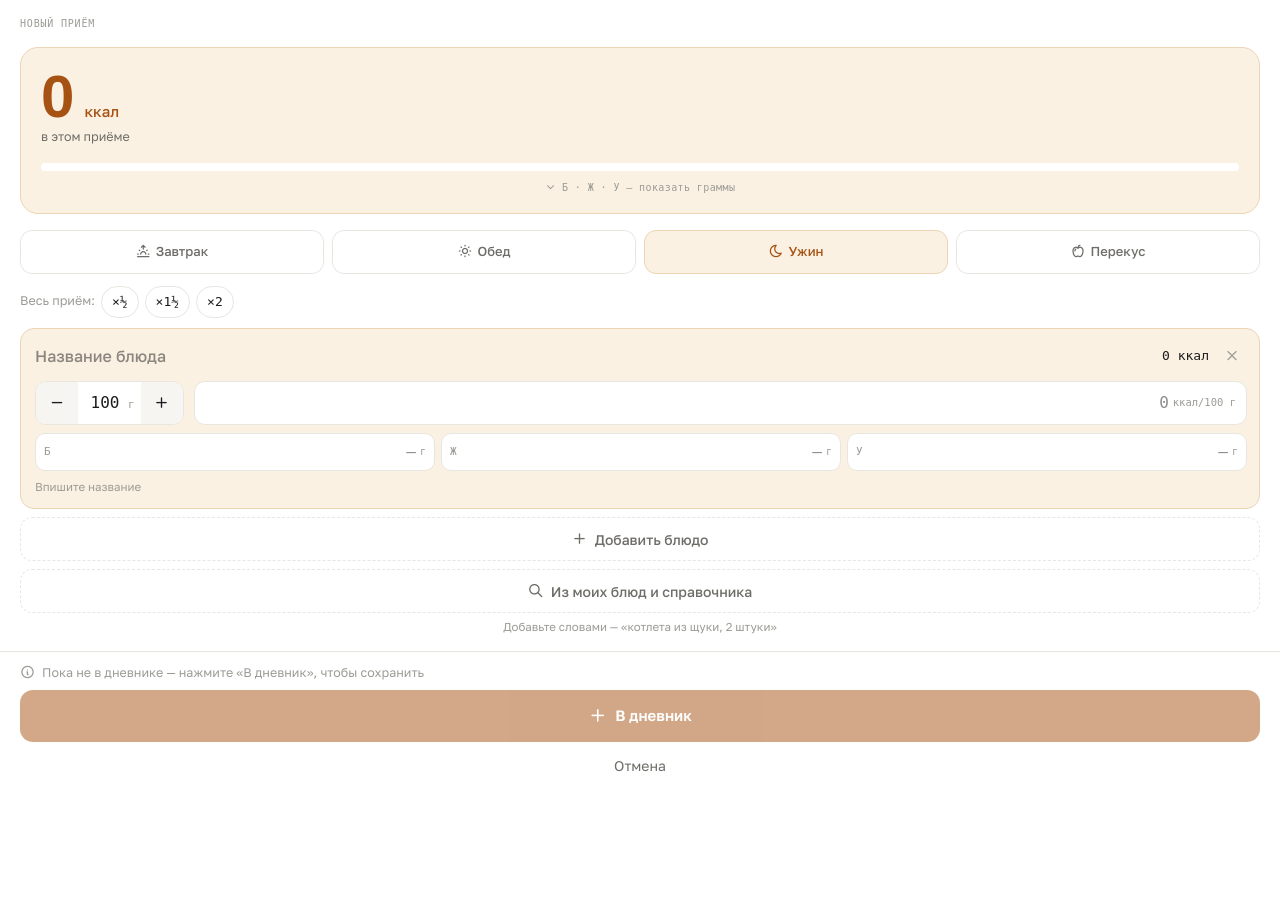
Test: Б. БЖУ из справочника видны до сохранения › творог 5 %, 200 г: 242 ккал и Б 34 / Ж 10 / У 4 на экране
The image size is (1280, 900).
Type "твор" into the field labelled "Название блюда" at (594, 356), box x1=35 y1=344 x2=1154 y2=368
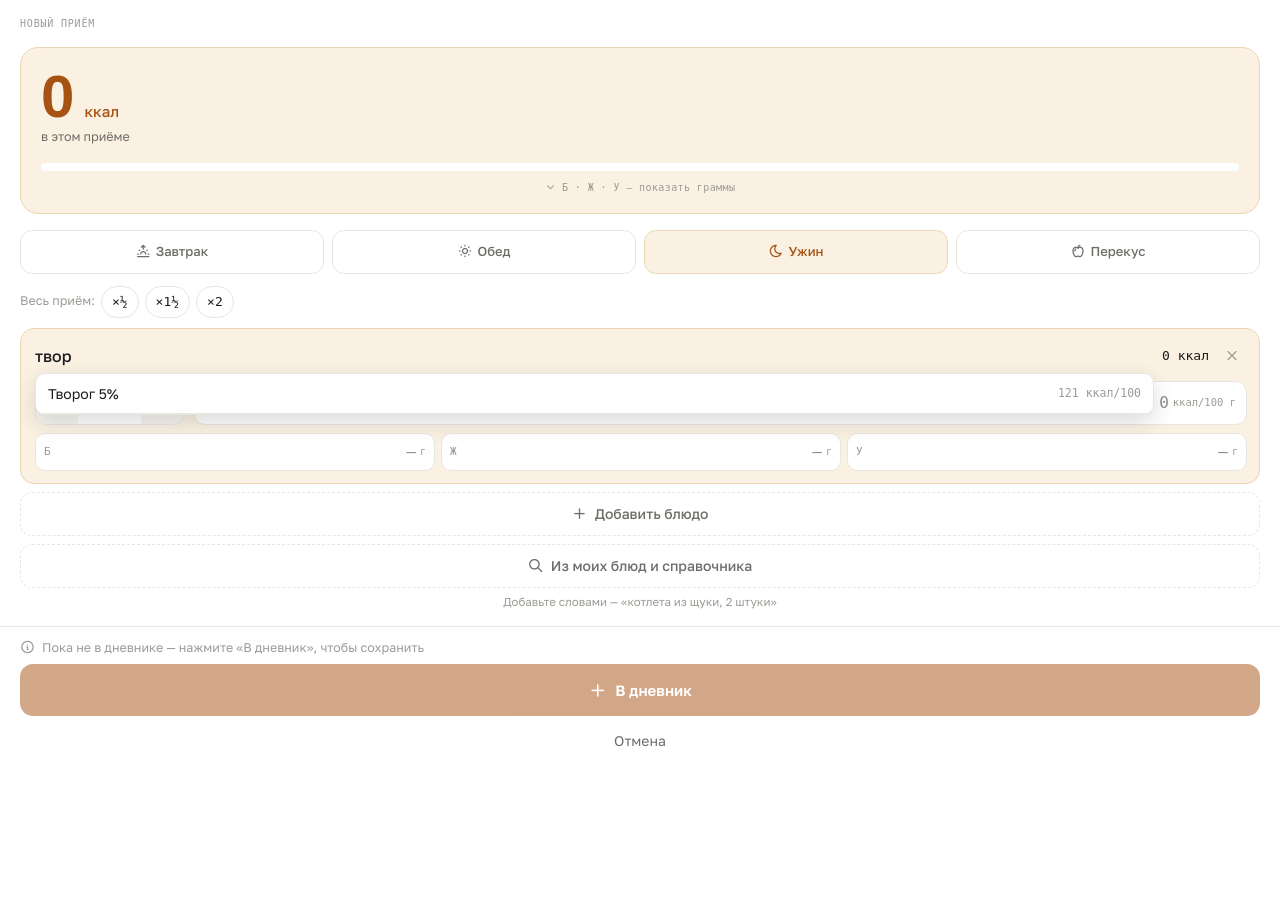
Press the mouse on the text "Творог 5%" at (83, 393), box x1=48 y1=383 x2=119 y2=404
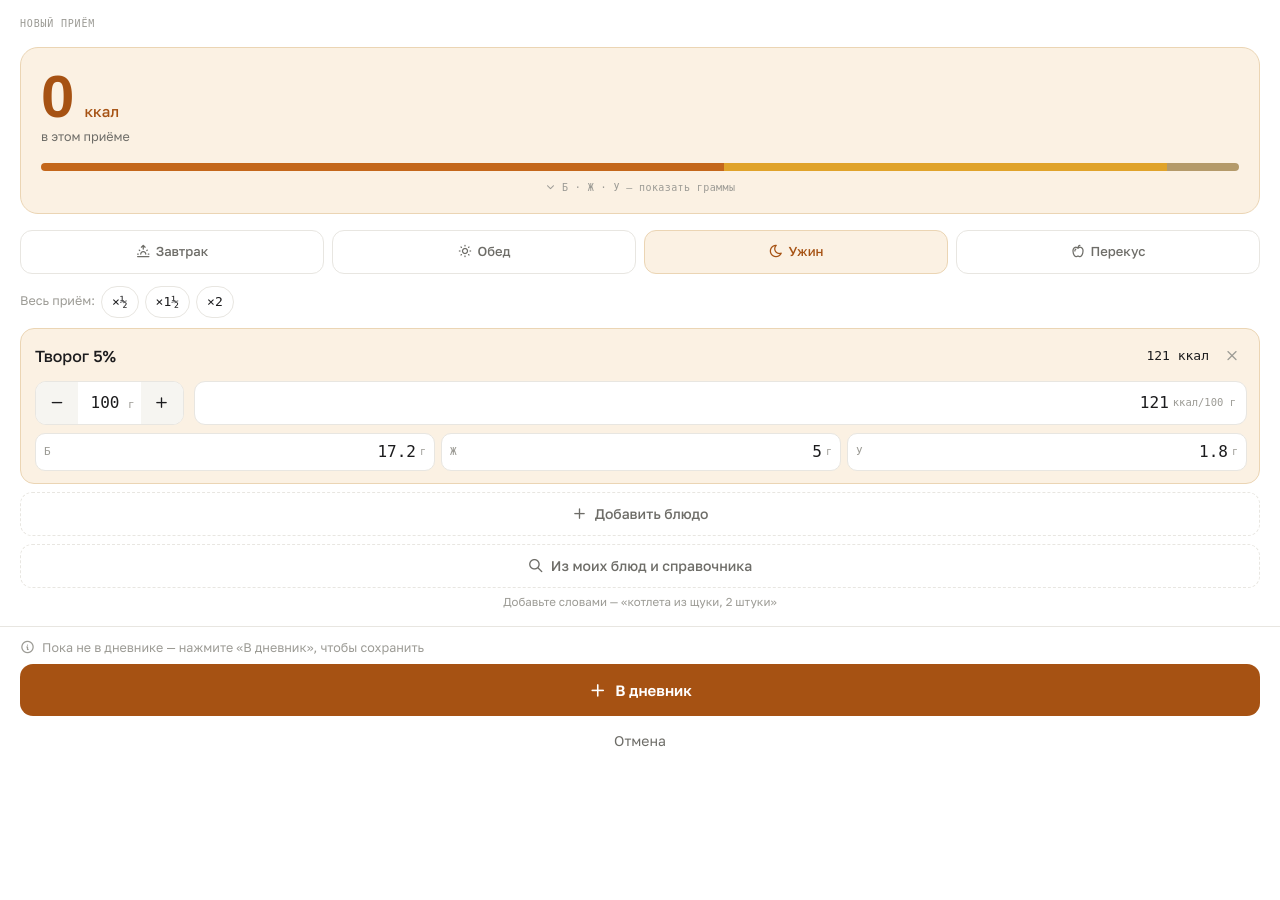
Replace the text in the number field named "Граммовка" with "200" at (105, 403), box x1=84 y1=391 x2=126 y2=415
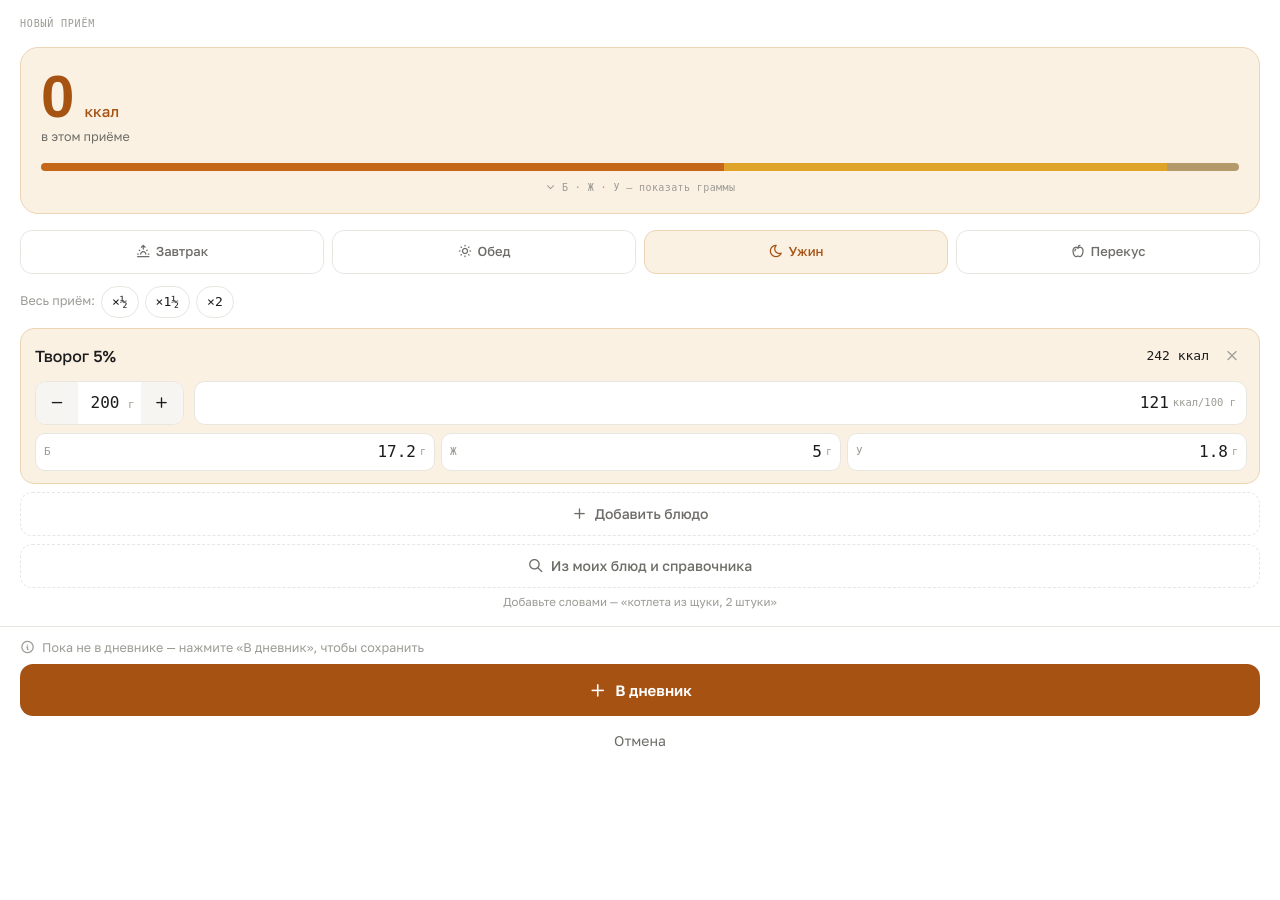
Click the button with aria-label "Показать граммы Б, Ж, У" at (640, 179), box x1=41 y1=163 x2=1239 y2=195
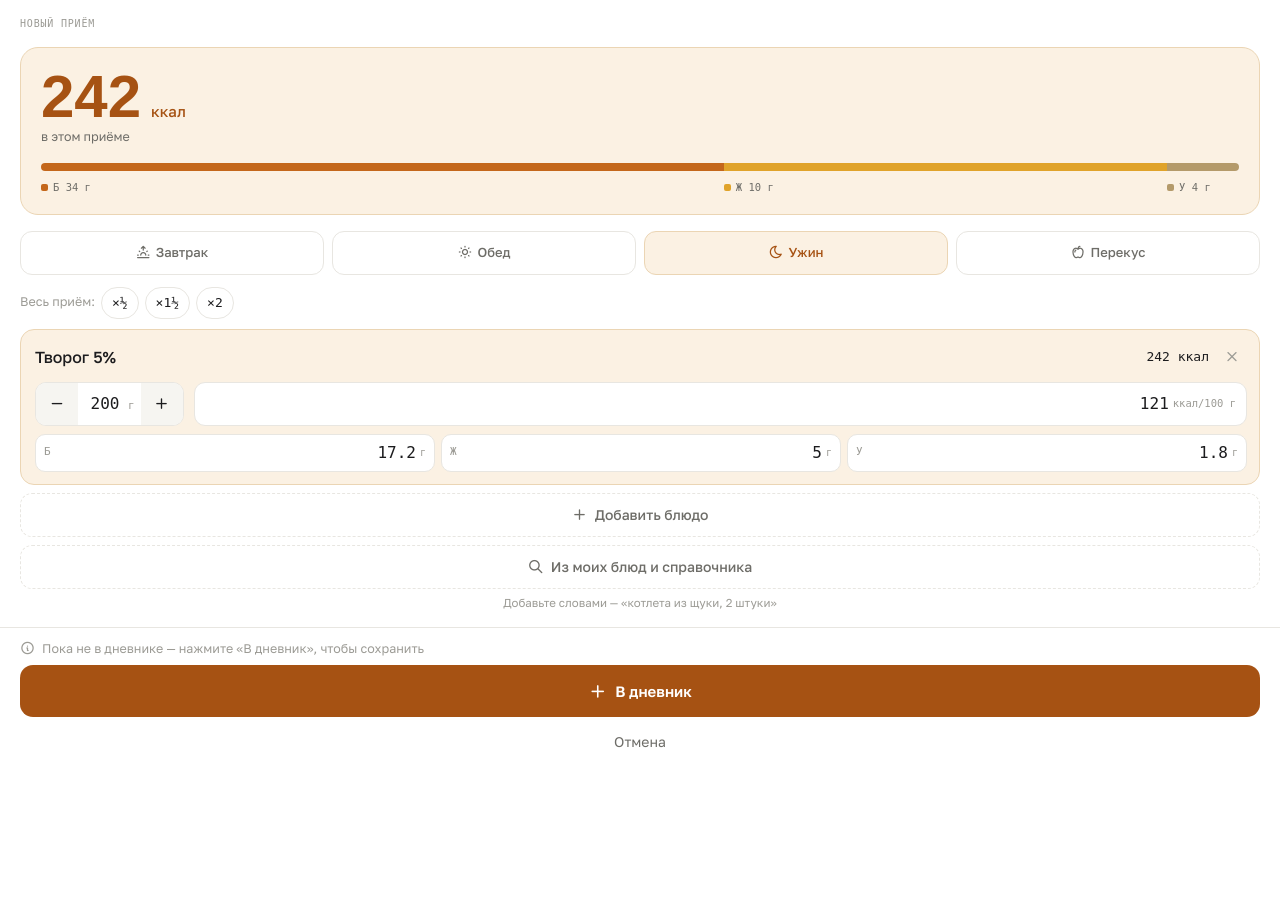
Expected: the text "Б 34 г" is shown, x1=41 y1=181 x2=91 y2=193
Expected: the text "Ж 10 г" is shown, x1=724 y1=181 x2=774 y2=193
Expected: the text "У 4 г" is shown, x1=1167 y1=181 x2=1211 y2=193
